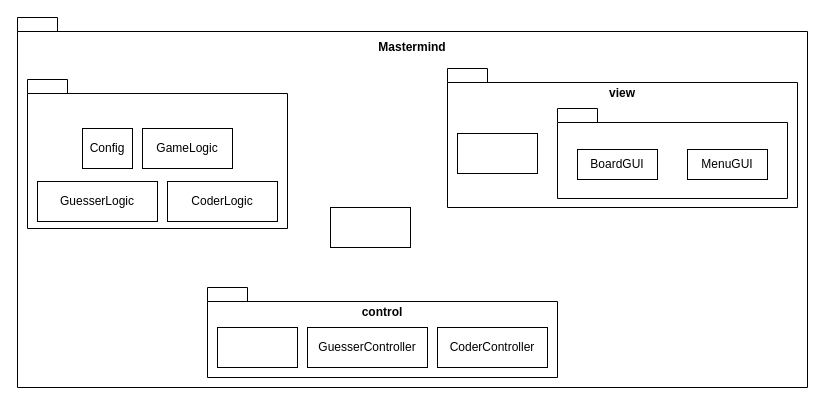
The diagram is 825 pixels wide and 405 high, and some of its shapes have lost their labels. Each missing label, with the box of its shape:
components: (556, 108, 788, 198)
Controller: (216, 326, 298, 368)
Main: (330, 206, 410, 248)
MainGUI: (456, 132, 538, 174)
model: (26, 78, 288, 228)
